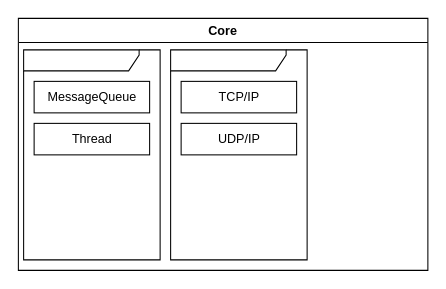
The diagram is 446 pixels wide and 289 high, and some of its shapes have lost their labels. The shapes that lost their labels are listed below. From the top down, each one's box as (x1, y1, x2, y2) in pixels, then its label:
(23, 49, 160, 260): Resources
(170, 49, 307, 260): Ext.Commu
